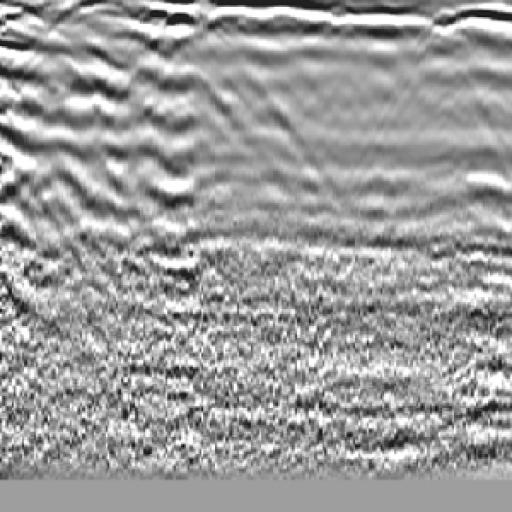non-metallic: (1, 45, 202, 262)
